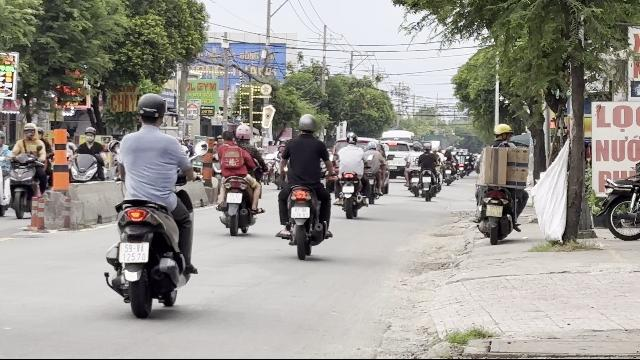helmet: (135, 93, 167, 128), (492, 122, 514, 142), (297, 114, 317, 134), (234, 123, 252, 143)
licenseplate: (120, 242, 148, 262), (291, 207, 309, 218), (486, 205, 502, 217), (226, 193, 242, 204)
motorcyclist: (101, 92, 200, 318), (274, 114, 334, 259), (471, 122, 531, 244), (212, 122, 264, 234)
nohelmet: (222, 128, 234, 146)
